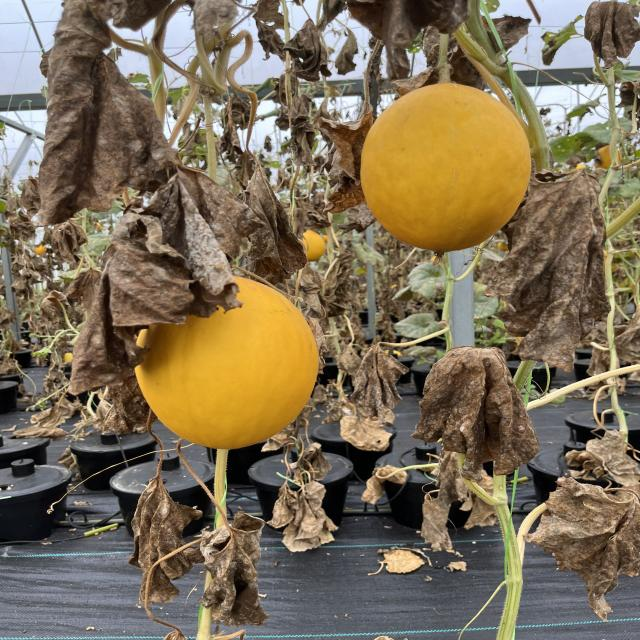bacterial wilt: (34, 12, 170, 209), (488, 160, 626, 346), (120, 159, 239, 312), (65, 233, 181, 374), (530, 472, 640, 616), (415, 350, 519, 452), (239, 158, 327, 266), (202, 514, 270, 620), (133, 484, 195, 596), (348, 0, 484, 49), (269, 447, 329, 548), (323, 111, 382, 212), (294, 247, 366, 328), (578, 1, 640, 82), (271, 19, 343, 88), (81, 372, 150, 438), (561, 427, 640, 480), (350, 338, 408, 410), (213, 83, 256, 160), (251, 4, 308, 56), (294, 99, 337, 161), (194, 0, 245, 52)
